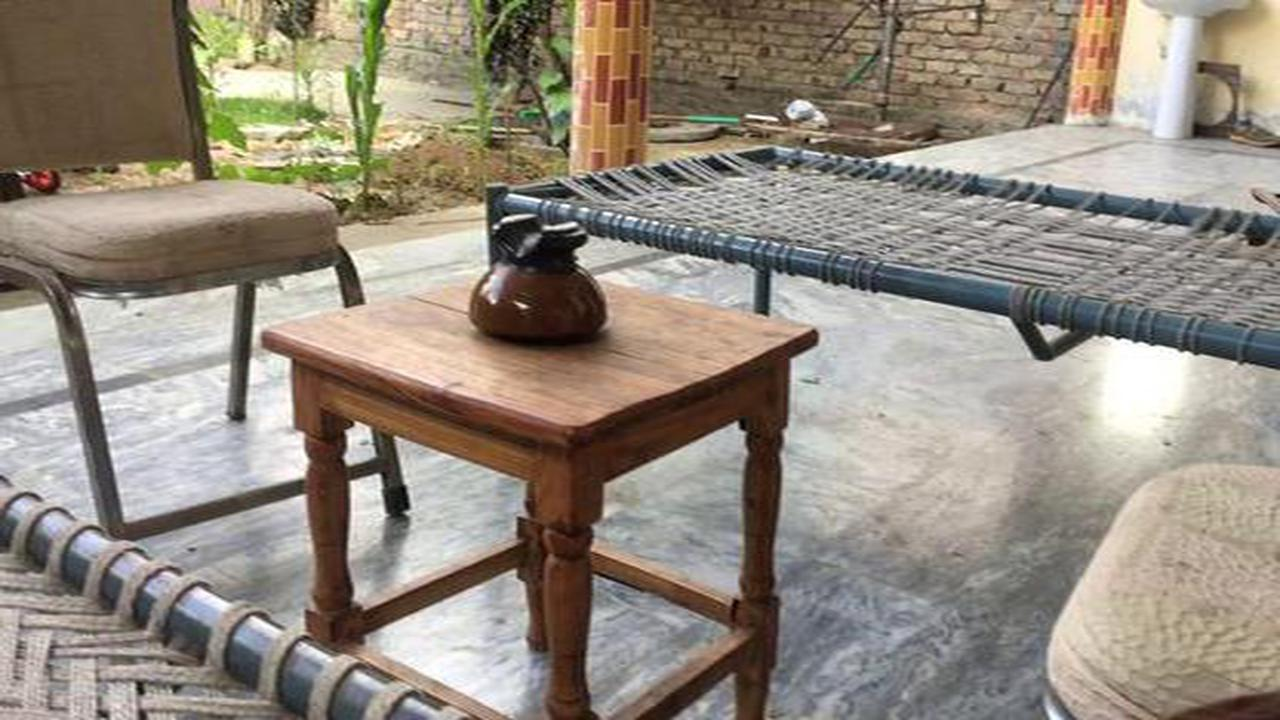insulator_pin: (447, 200, 625, 350)
